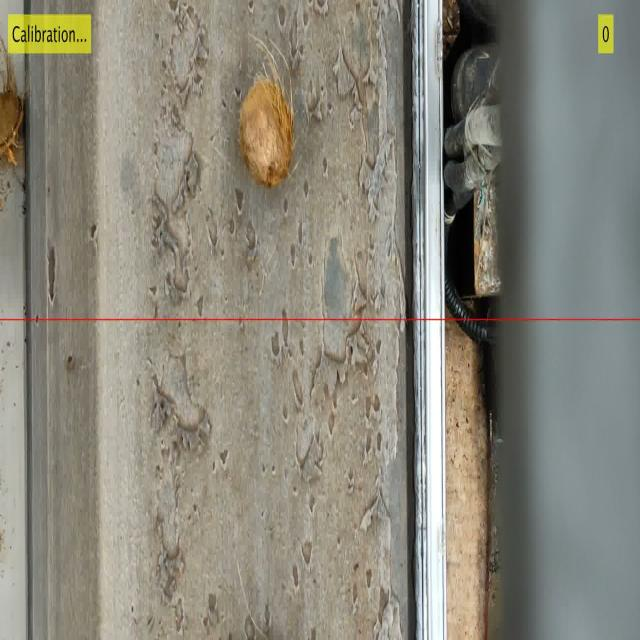Coconut-Conveyor-Belt: (240, 80, 292, 187), (0, 38, 24, 165)
